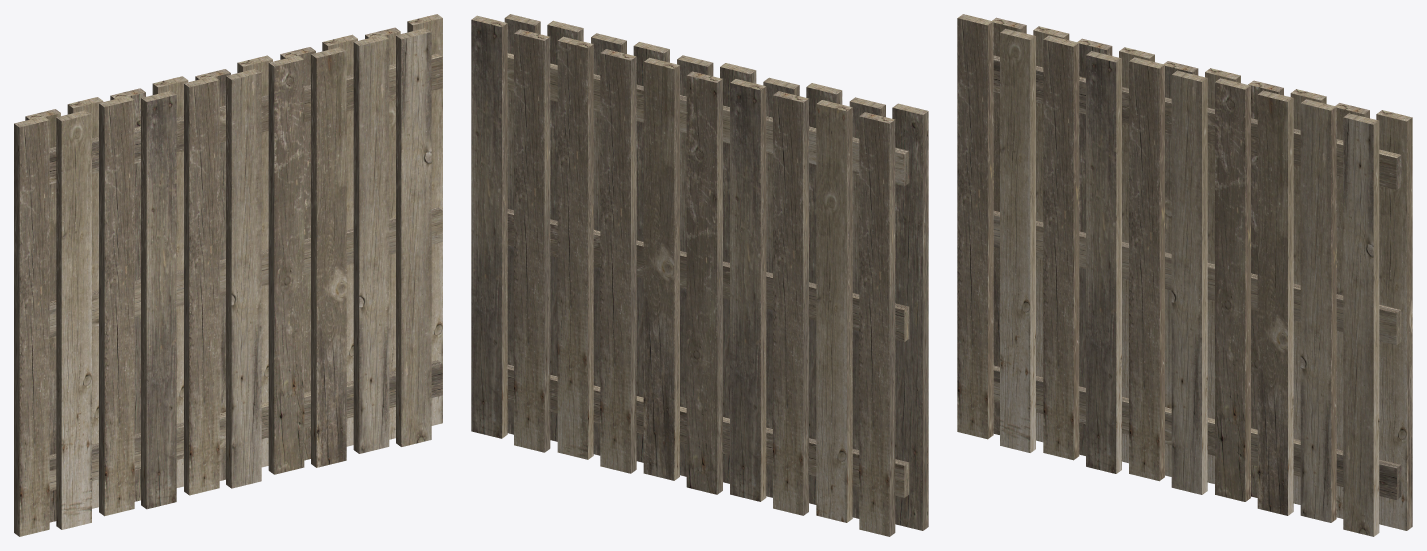
3 renders of one model, left to right at view 1: azimuth 30°, elevation 25°; view 2: azimuth 150°, elevation 25°; view 3: azimuth 330°, elevation 25°, orthographic.
Visible parts, largest first — view 1: fence_Cube.009; view 2: fence_Cube.009; view 3: fence_Cube.009.
Part boxes in pixels (x1,y1,x2,y2): fence_Cube.009: (14,14,442,536); fence_Cube.009: (471,14,928,536); fence_Cube.009: (957,14,1412,536).
Bounding box in the file's own units: 1.8 × 1.64 × 0.1165.
1 material, 1 textured.
